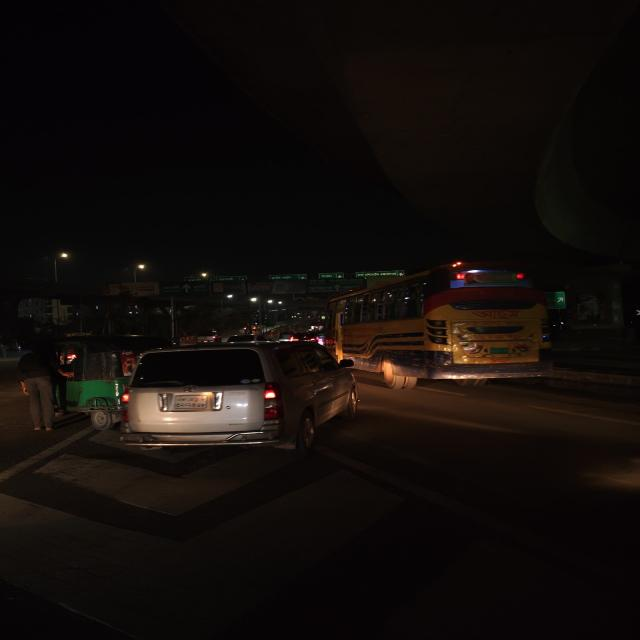bus: (336, 257, 558, 388)
car: (117, 340, 362, 457), (227, 333, 260, 345)
pedestrian: (14, 346, 71, 432)
